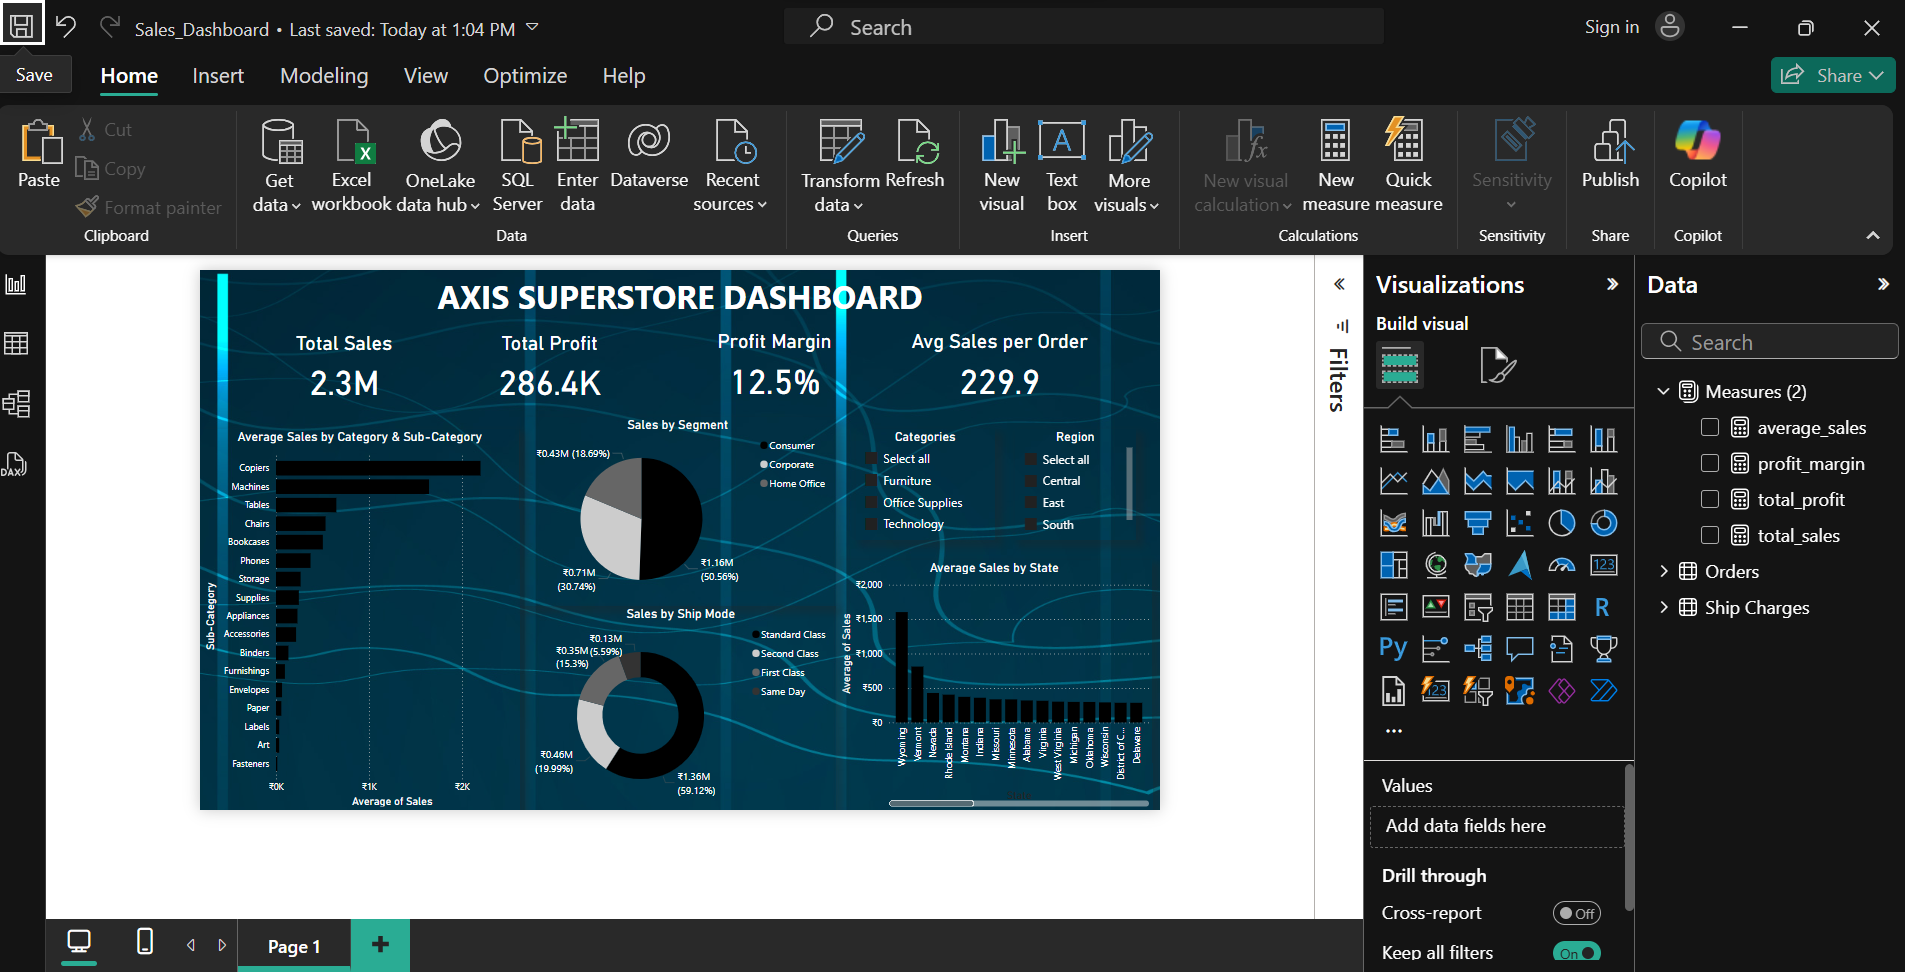

The page's visual inventory and layout, read from the dashboard file:
{"tool":"powerbi","page":{"name":"Page 1","canvas":[1280,720],"ordinal":0},"visuals":[{"type":"card","title":"Total Sales","fields":{"Values":["Measures (2).total_sales"]},"box":[64,70,256,124],"z":0},{"type":"textbox","box":[168,0,944,150],"z":1000},{"type":"card","title":"Total Profit","fields":{"Values":["Measures (2).total_profit"]},"box":[326,70,280,124],"z":2000},{"type":"card","title":"Profit Margin","fields":{"Values":["Measures (2).profit_margin"]},"box":[606,68,320,124],"z":3000},{"type":"card","title":"Avg Sales per Order","fields":{"Values":["Measures (2).average_sales"]},"box":[926,68,280,124],"z":4000},{"type":"barChart","title":"Average Sales by Category & Sub-Category","fields":{"Category":["Orders.Sub-Category","Orders.Category"],"Y":["Avg(Orders.Sales)"]},"box":[0,212,426,508],"z":5000},{"type":"pieChart","title":"Sales by Segment","fields":{"Y":["Sum(Orders.Sales)"],"Category":["Orders.Segment"]},"box":[426,196,422,252],"z":6000},{"type":"columnChart","title":"Average Sales by State","fields":{"Y":["Avg(Orders.Sales)"],"Category":["Orders.State"]},"box":[848,386,422,334],"z":6001},{"type":"donutChart","title":"Sales by Ship Mode","fields":{"Y":["Sum(Orders.Sales)"],"Category":["Orders.Ship Mode"]},"box":[434,448,414,272],"z":6002},{"type":"slicer","title":"Categories","fields":{"Values":["Orders.Category"]},"box":[874,212,186,148],"z":6003},{"type":"slicer","title":"Region","fields":{"Values":["Orders.Region"]},"box":[1086,212,162,148],"z":6004}]}

Visuals, with their boxes on the page's 1280x720 design canvas (x1, y1, x2, y2). These are canvas units, not pixel positions in the 1905x972 screenshot, which may show the page scaled, cropped or inside an application window:
"Total Sales" card: pyautogui.locateOnScreen(64, 70, 320, 194)
textbox: pyautogui.locateOnScreen(168, 0, 1112, 150)
"Total Profit" card: pyautogui.locateOnScreen(326, 70, 606, 194)
"Profit Margin" card: pyautogui.locateOnScreen(606, 68, 926, 192)
"Avg Sales per Order" card: pyautogui.locateOnScreen(926, 68, 1206, 192)
"Average Sales by Category & Sub-Category" barChart: pyautogui.locateOnScreen(0, 212, 426, 720)
"Sales by Segment" pieChart: pyautogui.locateOnScreen(426, 196, 848, 448)
"Average Sales by State" columnChart: pyautogui.locateOnScreen(848, 386, 1270, 720)
"Sales by Ship Mode" donutChart: pyautogui.locateOnScreen(434, 448, 848, 720)
"Categories" slicer: pyautogui.locateOnScreen(874, 212, 1060, 360)
"Region" slicer: pyautogui.locateOnScreen(1086, 212, 1248, 360)
